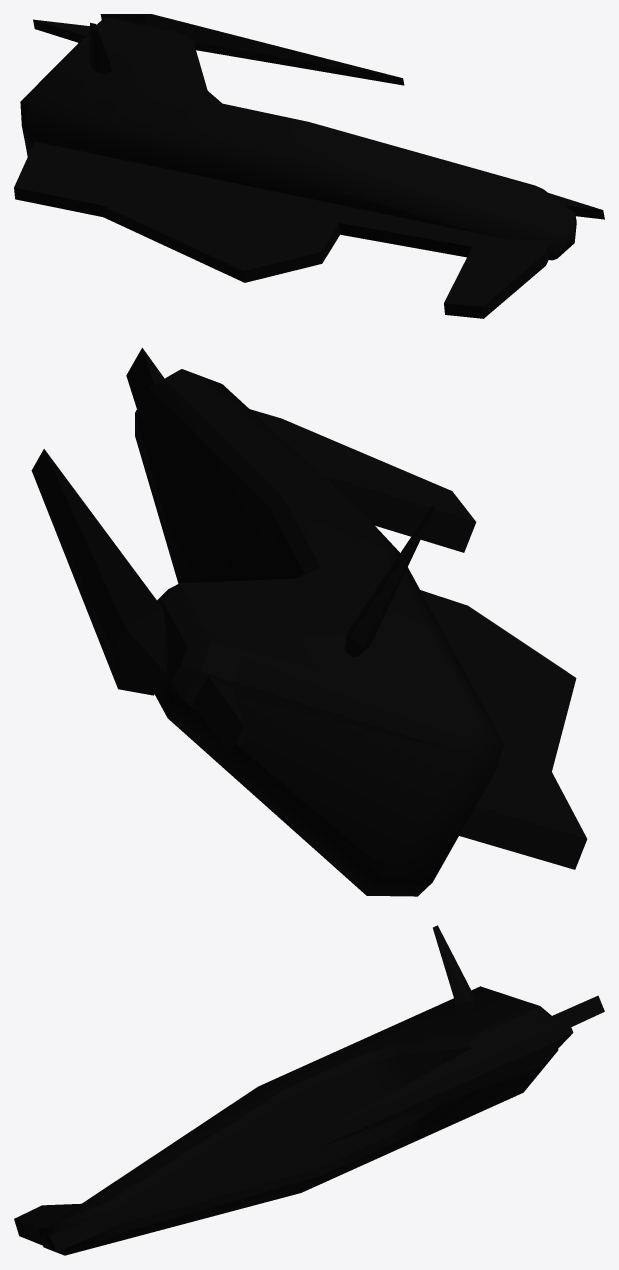
File: ama_collectable_scrap_12.glb
3 renders of one model, top to bottom at view 1: azimuth 30°, elevation 25°; view 2: azimuth 150°, elevation 25°; view 3: azimuth 270°, elevation 25°, orthographic. The views are drawn at different scales.
Visible parts, largest first — view 1: shipScrapPart_12; view 2: shipScrapPart_12; view 3: shipScrapPart_12.
Part boxes in pixels (box(x1,y1,x2,y2)): shipScrapPart_12: box(14, 14, 604, 318); shipScrapPart_12: box(31, 347, 587, 896); shipScrapPart_12: box(14, 925, 604, 1255).
Size of the model in its own units: 1.15 by 0.5323 by 1.36.
Materials: 2 (2 with a texture image).
